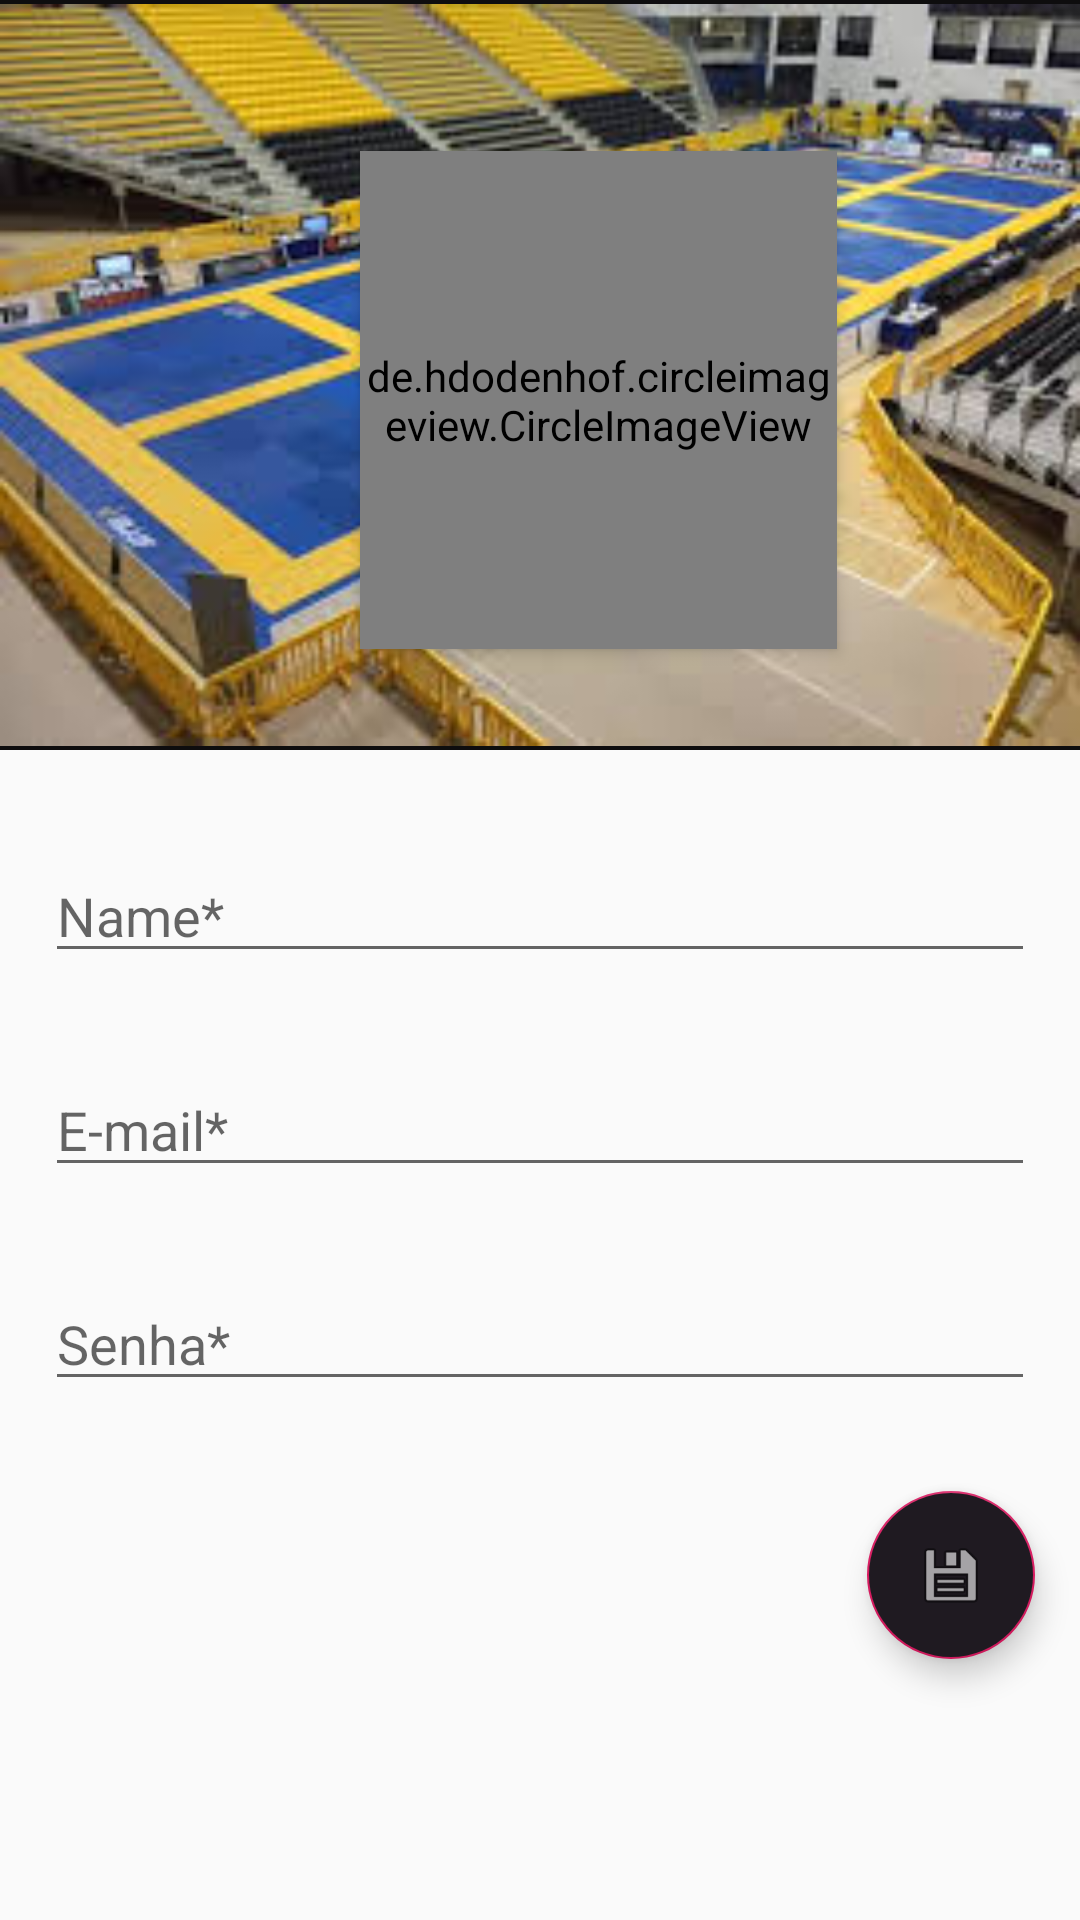

Named icons in this screenshot (1080x1920) and their centers, (x,y):
save: (951,1575)
